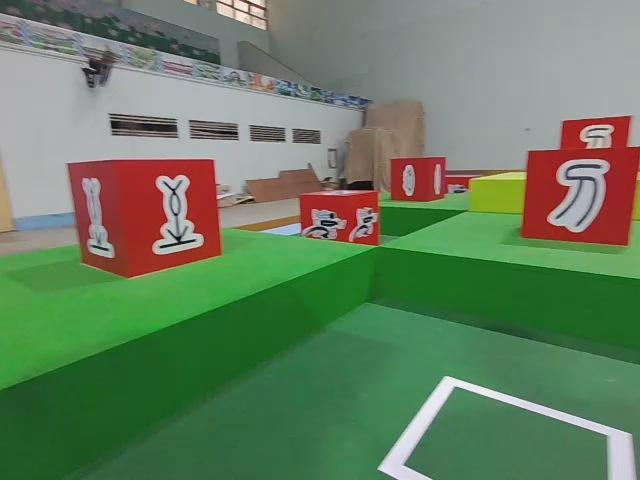R1: (298, 187, 384, 254)
R2 Fake: (518, 150, 639, 247)
R2 Real: (65, 157, 225, 281), (389, 157, 449, 206)
